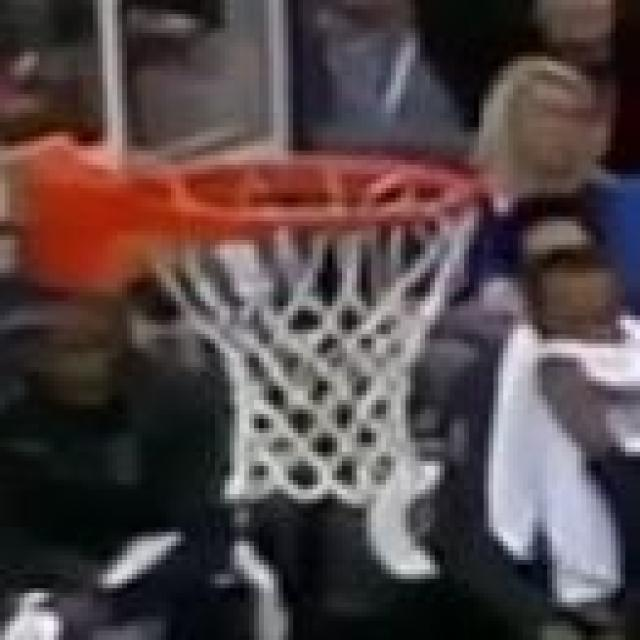hoop: (124, 130, 511, 531)
